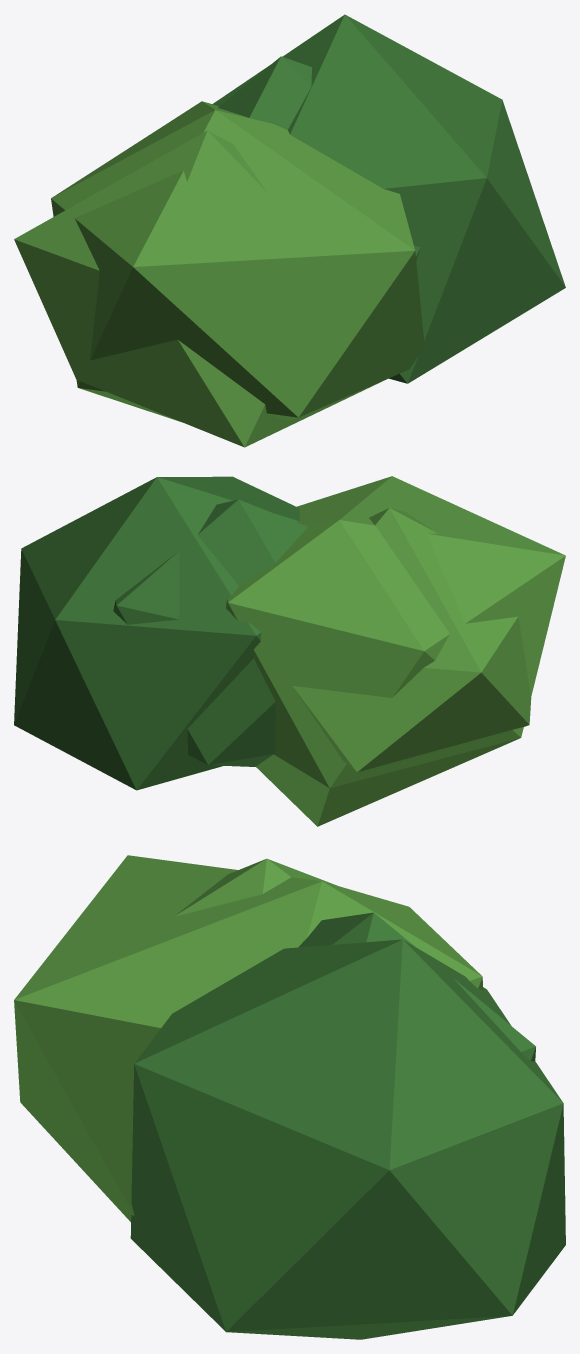
Rendered from ENV_Bush_Plain.fbx.
3 views of the same model, one above another, from view 1: azimuth 30°, elevation 25°; view 2: azimuth 150°, elevation 25°; view 3: azimuth 270°, elevation 25° (orthographic). The views are drawn at different scales.
Visible parts, largest first — view 1: ENV_Bush_Plain; view 2: ENV_Bush_Plain; view 3: ENV_Bush_Plain.
Boxes of the visible parts, box(x1,y1,x2,y2) form: ENV_Bush_Plain: box(14, 14, 565, 447); ENV_Bush_Plain: box(14, 476, 565, 826); ENV_Bush_Plain: box(14, 855, 565, 1339).
Bounding box in the file's own units: 1.24 × 0.8835 × 1.
